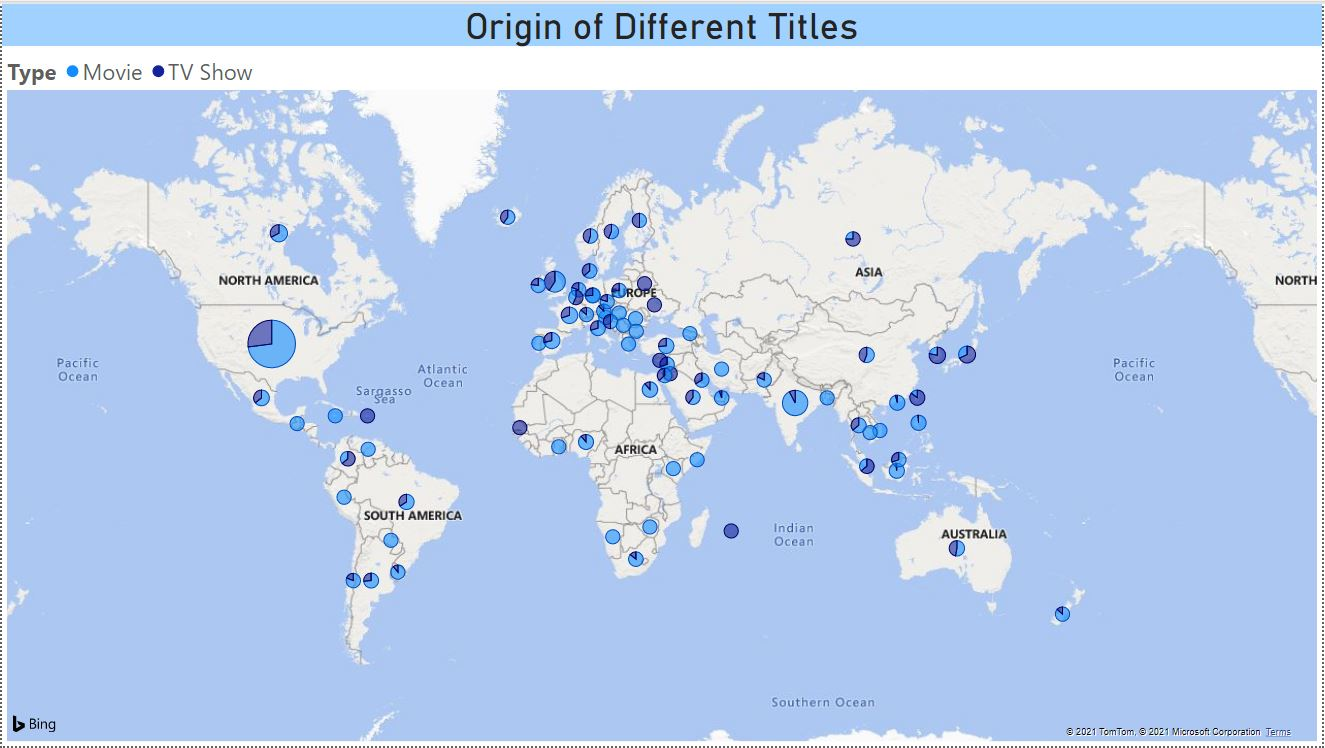

The page's visual inventory and layout, read from the dashboard file:
{"tool":"powerbi","page":{"name":"Geographical Distribution","canvas":[1280,720],"ordinal":3},"visuals":[{"type":"map","title":"Origin of Released Content on Netflix","fields":{"Category":["netflix_titles.Principal Country"],"Size":["CountNonNull(netflix_titles.Title)"]},"box":[9.6,12.4,1251.1,708.1],"z":1}]}

Visuals, with their boxes in screenshot pixels (x1, y1, x2, y2), scaled from the page's 1280x720 canvas onto the 1325x748 screenshot:
"Origin of Released Content on Netflix" map: select_region(10, 13, 1305, 747)
